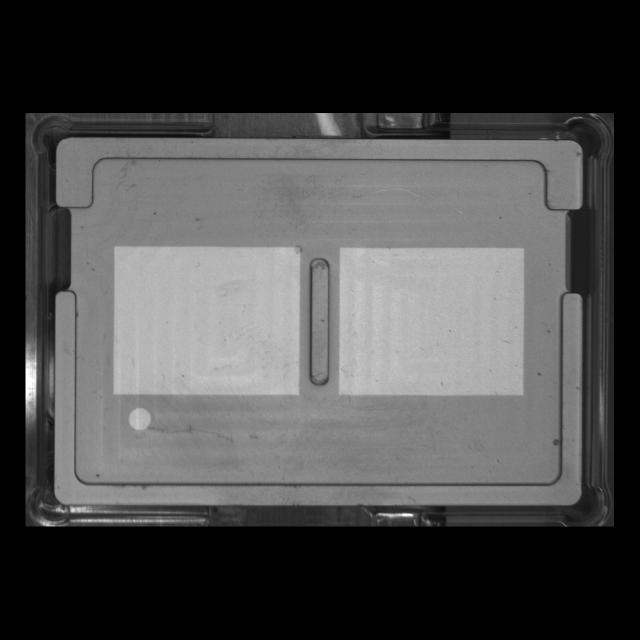door: (46, 125, 595, 223)
point: (124, 404, 156, 435)
